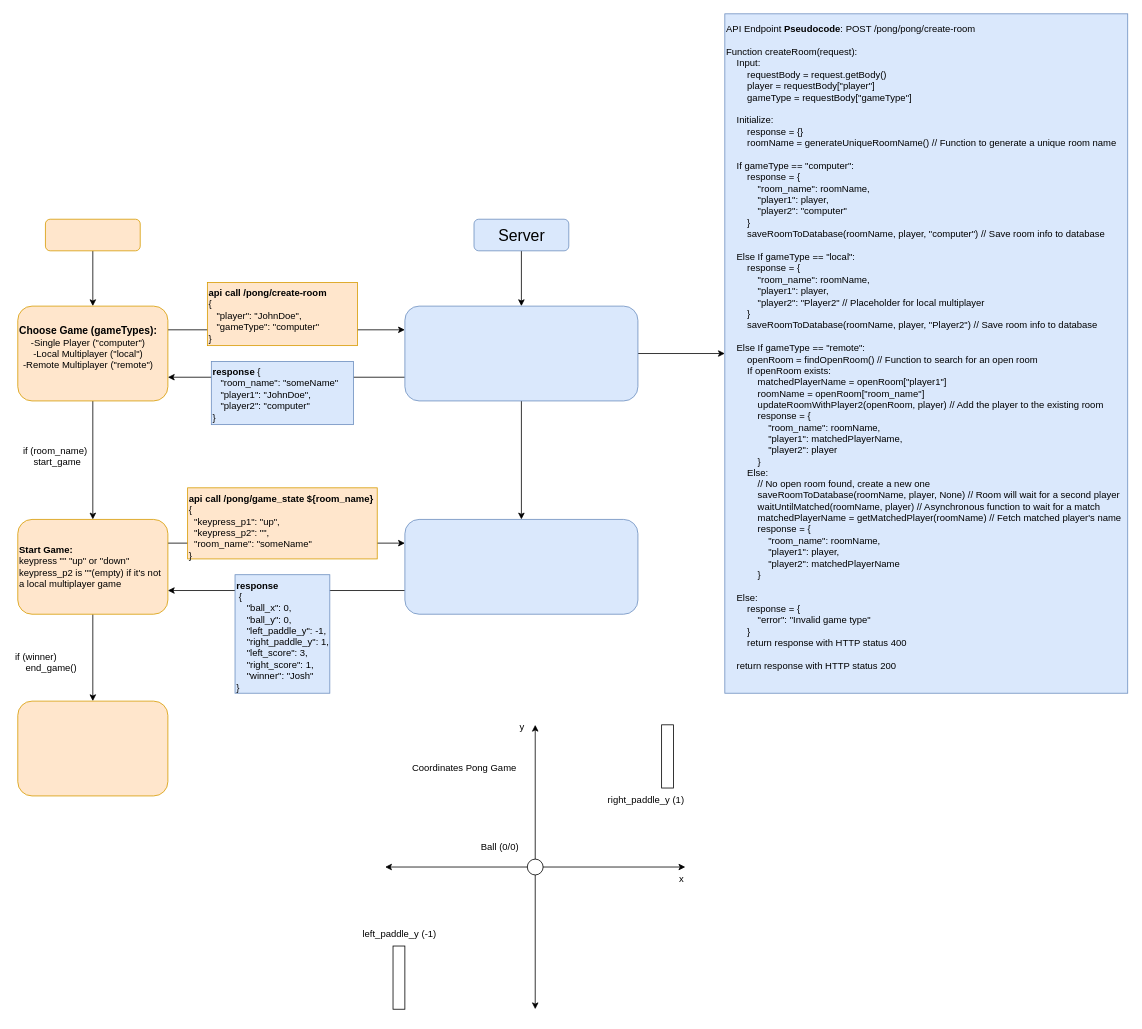
The diagram is 1142 pixels wide and 1029 high, and some of its shapes have lost their labels. The box of each missing label's shape, as (x1, y1, x2, y2) in pixels:
calculate next frame : set winner only after finishing the game: (404, 519, 638, 614)
Client: (45, 218, 140, 251)
create or search room depending on the gameType response depending on gameType: (404, 305, 638, 401)
Display Winner: (17, 700, 168, 796)
